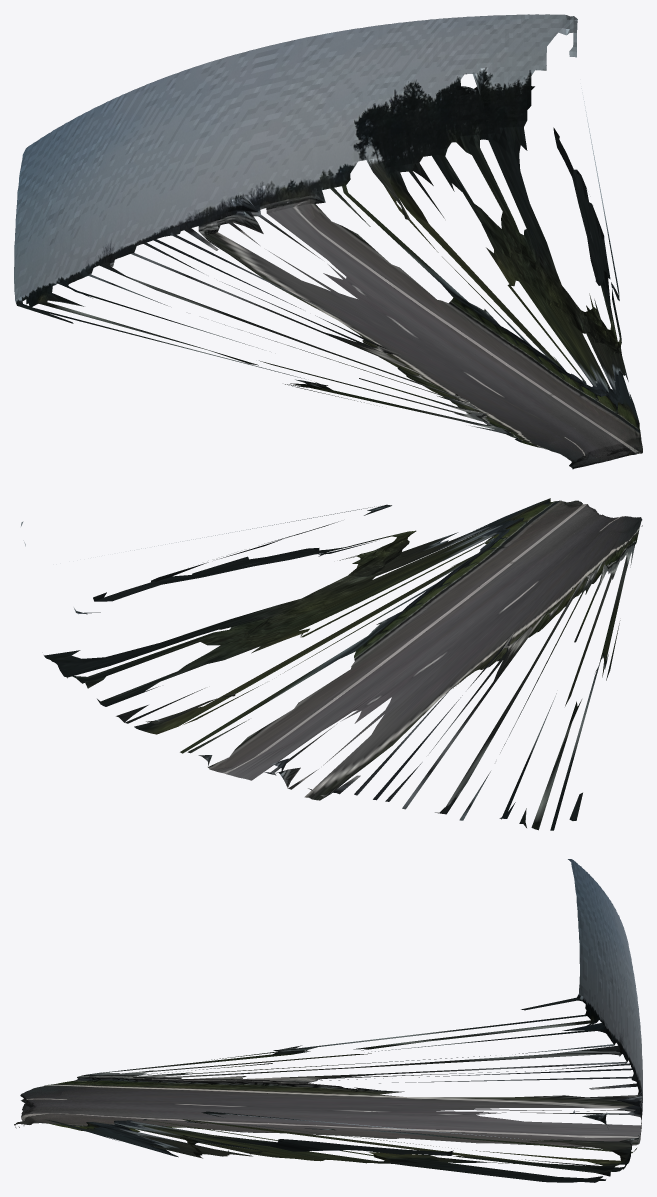
The picture shows the model from 3 angles, top to bottom: view 1: azimuth 30°, elevation 25°; view 2: azimuth 150°, elevation 25°; view 3: azimuth 270°, elevation 25°; orthographic projection. The views are drawn at different scales.
Visible parts, largest first — view 1: defaultobject; view 2: defaultobject; view 3: defaultobject.
Boxes of the visible parts, bbox=[...] form: defaultobject: bbox=[14, 14, 642, 469]; defaultobject: bbox=[21, 498, 642, 830]; defaultobject: bbox=[14, 859, 642, 1182].
Bounding box in the file's own units: 40.97 × 12.61 × 44.63.
1 material, 1 textured.
